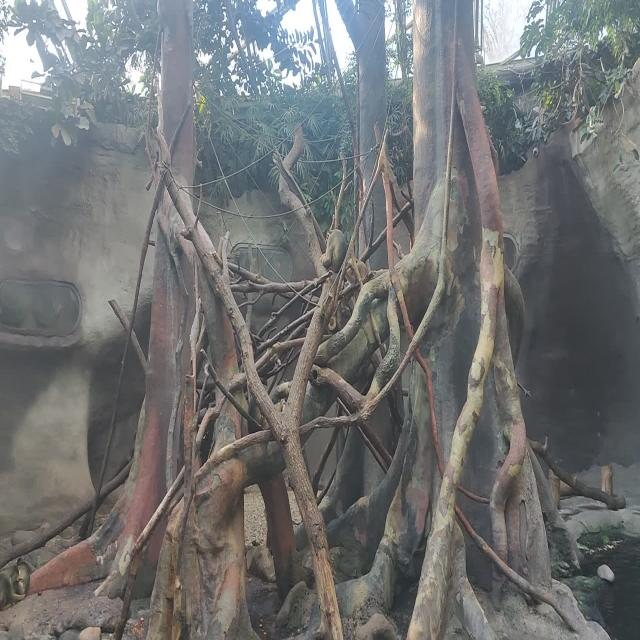monkey: (0, 564, 26, 611), (321, 229, 347, 273), (17, 558, 30, 594)
